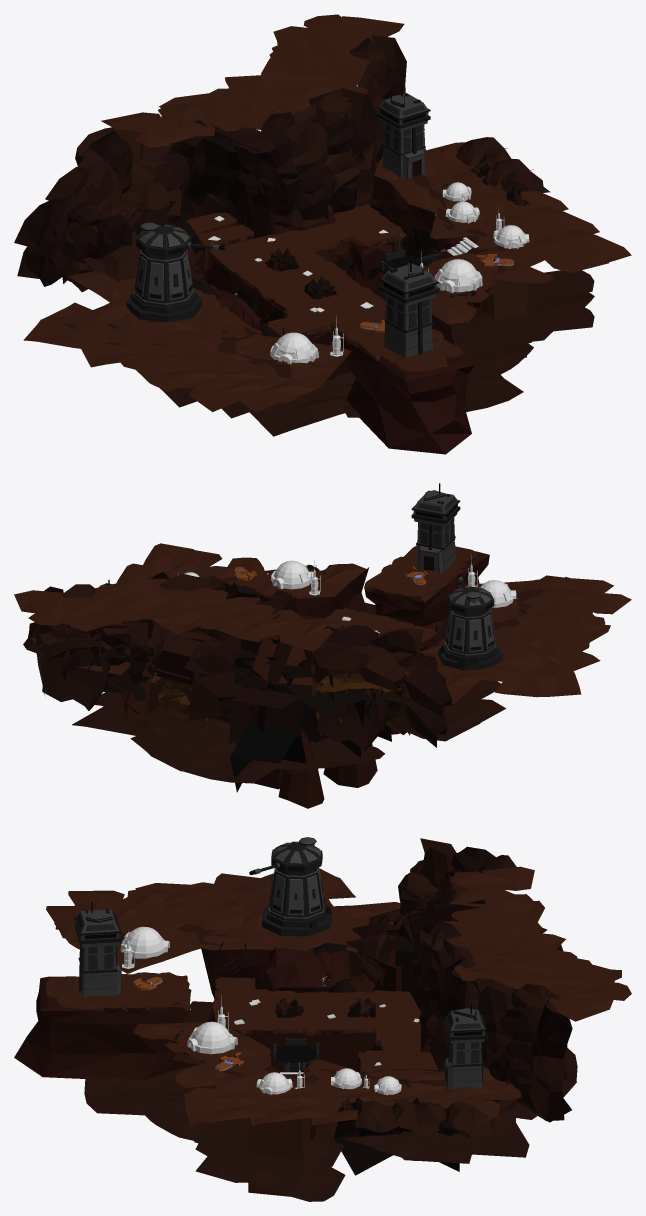
Rendered from Room_1.fbx.
3 views of the same model, one above another, from view 1: azimuth 30°, elevation 25°; view 2: azimuth 150°, elevation 25°; view 3: azimuth 270°, elevation 25° (orthographic). The views are drawn at different scales.
Parts seen in each view (by area): view 1: Exterior, Central, Tower_Surveillance.001, Parte_Inferior, Tower_Surveillance2, Parte_Superior, House2, House4, Little1, Central_Rocks, Little2, House3 (+1 smaller); view 2: Exterior, Tower_Surveillance.001, Parte_Inferior, Central, Parte_Superior, House2, House4; view 3: Exterior, Central, Parte_Inferior, Tower_Surveillance.001, Tower_Surveillance2, Parte_Superior, House2, House4, Torre, Central_Rocks, House3, Antenna (+1 smaller).
Boxes of the visible parts, x1,y1,x2,y2 form: Exterior: (14, 14, 631, 454); Central: (206, 203, 406, 381); Tower_Surveillance.001: (379, 260, 439, 357); Parte_Inferior: (126, 250, 202, 321); Tower_Surveillance2: (376, 85, 430, 178); Parte_Superior: (136, 222, 225, 257); House2: (434, 259, 482, 292); House4: (270, 332, 318, 364); Little1: (197, 224, 254, 281); Central_Rocks: (265, 247, 337, 299); Little2: (187, 212, 236, 234); House3: (493, 225, 529, 248); Exterior: (14, 543, 631, 808); Tower_Surveillance.001: (411, 483, 460, 572); Parte_Inferior: (438, 609, 502, 670); Central: (148, 608, 437, 741); Parte_Superior: (447, 575, 494, 614); House2: (271, 560, 313, 589); House4: (480, 580, 516, 607); Exterior: (14, 838, 631, 1201); Central: (208, 977, 438, 1073); Parte_Inferior: (262, 867, 331, 936); Tower_Surveillance.001: (74, 901, 121, 997); Tower_Surveillance2: (444, 1003, 486, 1089); Parte_Superior: (249, 837, 322, 875); House2: (187, 1021, 237, 1054); House4: (120, 926, 169, 958); Torre: (273, 1038, 319, 1071); Central_Rocks: (275, 997, 376, 1017); House3: (256, 1072, 292, 1094); Antenna: (122, 929, 369, 1088).
Size of the model in its own units: 91.23 by 33.88 by 88.76.
